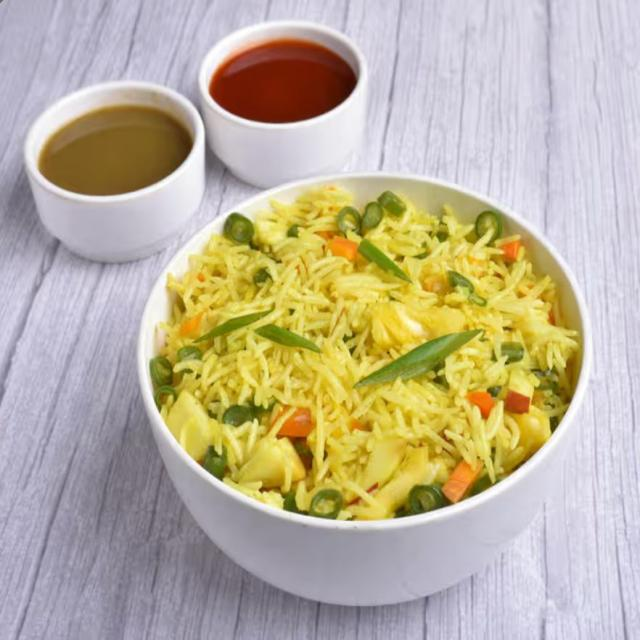BIRIYANI: (147, 184, 590, 527)
GREEN CHUTNEY: (30, 87, 190, 198)
SAUCE: (200, 17, 362, 130)
